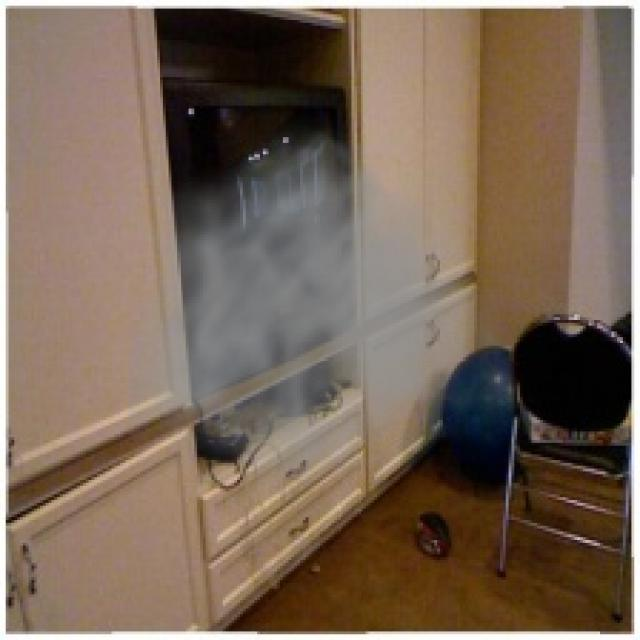smoke: (129, 111, 517, 508)
